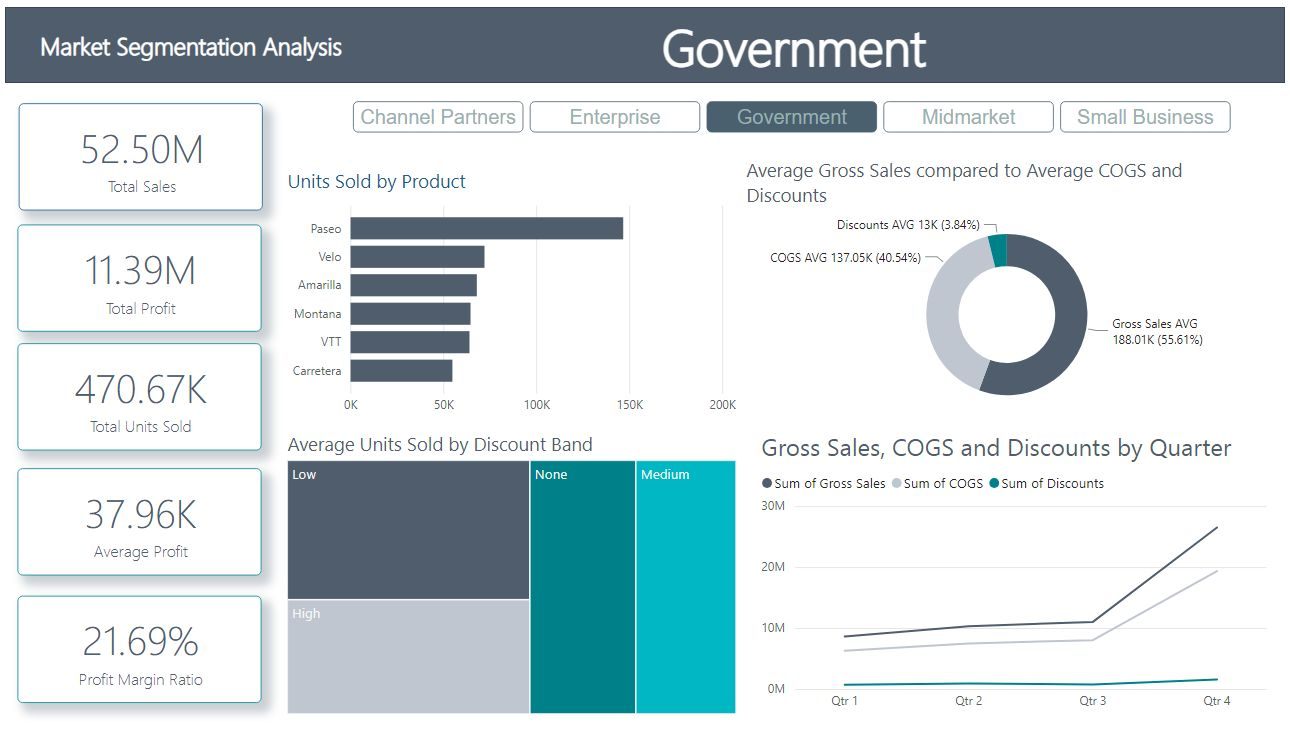

This screenshot's page, from the dashboard's own definition file:
{"tool":"powerbi","page":{"name":"Market Segmentation","canvas":[1280,720],"ordinal":0},"visuals":[{"type":"card","fields":{"Values":["_Measures.TotalProfit"]},"box":[12.9,217.1,244.3,107.1],"z":0},{"type":"treemap","title":"Average Units Sold by Discount Band","fields":{"Group":["financials.Discount Band","financials.Segment"],"Values":["Avg(financials.Units Sold)"]},"box":[277.1,424.3,458.6,288.6],"z":1000},{"type":"card","fields":{"Values":["_Measures.Average Profit"]},"box":[12.9,461.4,244.3,107.1],"z":2000},{"type":"donutChart","title":"Average Gross Sales compared to Average COGS and Discounts","fields":{"Y":["Avg(financials.Gross Sales)","Avg(financials.COGS)","Avg(financials.Discounts)"]},"box":[735.7,150,531.4,265.7],"z":3000},{"type":"lineChart","title":"Gross Sales, COGS and Discounts by Quarter","fields":{"Category":["financials.Date.Variation.Date Hierarchy.Year","financials.Date.Variation.Date Hierarchy.Quarter","financials.Date.Variation.Date Hierarchy.Month","financials.Date.Variation.Date Hierarchy.Day"],"Y":["Sum(financials.Gross Sales)","Sum(financials.COGS)","Sum(financials.Discounts)"]},"box":[751.4,424.3,515.7,288.6],"z":4000},{"type":"shape","box":[0,0,1280,75.7],"z":5000},{"type":"card","fields":{"Values":["_Measures.MS"]},"box":[551.4,0,475.7,75.7],"z":6000},{"type":"textbox","box":[12.9,17.1,347.1,48.6],"z":7000},{"type":"card","fields":{"Values":["_Measures.Total Sales"]},"box":[14.3,95.7,244.3,107.1],"z":8000},{"type":"card","fields":{"Values":["_Measures.Total Units Sold"]},"box":[12.9,335.7,244.3,107.1],"z":9000},{"type":"card","fields":{"Values":["_Measures.Profit Margin Ratio"]},"box":[12.9,588.6,244.3,107.1],"z":10000},{"type":"ChicletSlicer1448559807354","fields":{"Category":["financials.Segment"]},"box":[340,85.7,894.3,54.3],"z":11000},{"type":"clusteredBarChart","title":"Units Sold by Product","fields":{"Category":["financials.Product"],"Y":["Sum(financials.Units Sold)"]},"box":[277.1,161.4,458.6,254.3],"z":12000}]}

Visuals, with their boxes in screenshot pixels (x1, y1, x2, y2), scaled from the page's 1280x720 canvas onto the 1290x733 screenshot:
card - _Measures.TotalProfit: <box>13,221,259,330</box>
"Average Units Sold by Discount Band" treemap: <box>279,432,741,726</box>
card - _Measures.Average Profit: <box>13,470,259,579</box>
"Average Gross Sales compared to Average COGS and Discounts" donutChart: <box>741,153,1277,423</box>
"Gross Sales, COGS and Discounts by Quarter" lineChart: <box>757,432,1277,726</box>
shape: <box>0,0,1289,77</box>
card - _Measures.MS: <box>556,0,1035,77</box>
textbox: <box>13,17,363,67</box>
card - _Measures.Total Sales: <box>14,97,261,206</box>
card - _Measures.Total Units Sold: <box>13,342,259,451</box>
card - _Measures.Profit Margin Ratio: <box>13,599,259,708</box>
ChicletSlicer1448559807354 - financials.Segment: <box>343,87,1244,143</box>
"Units Sold by Product" clusteredBarChart: <box>279,164,741,423</box>
